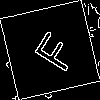F: (25, 25, 80, 75)
